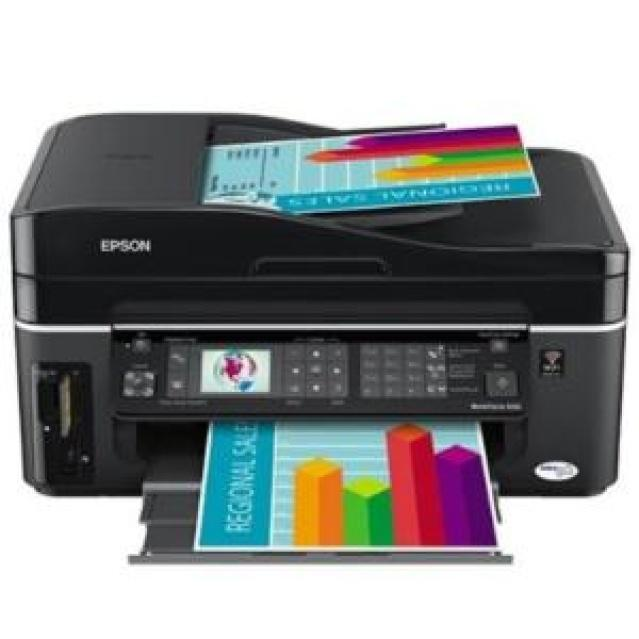Printer: (10, 111, 628, 564)
